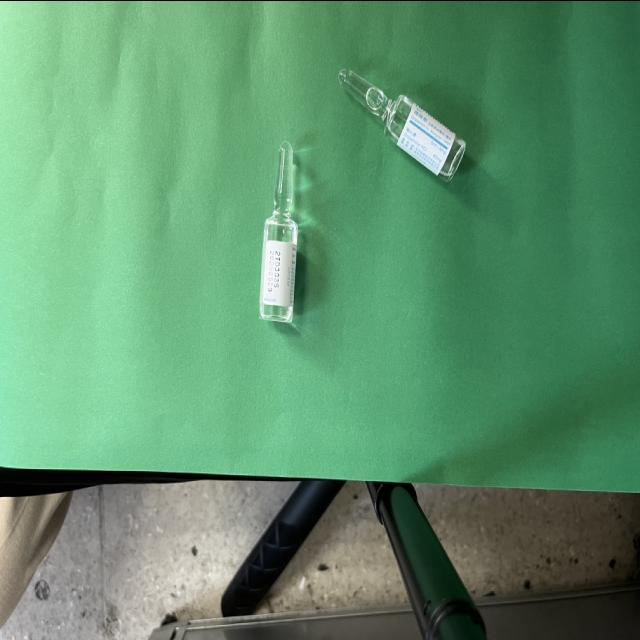Ampoules: (338, 69, 466, 180), (260, 143, 299, 323)
